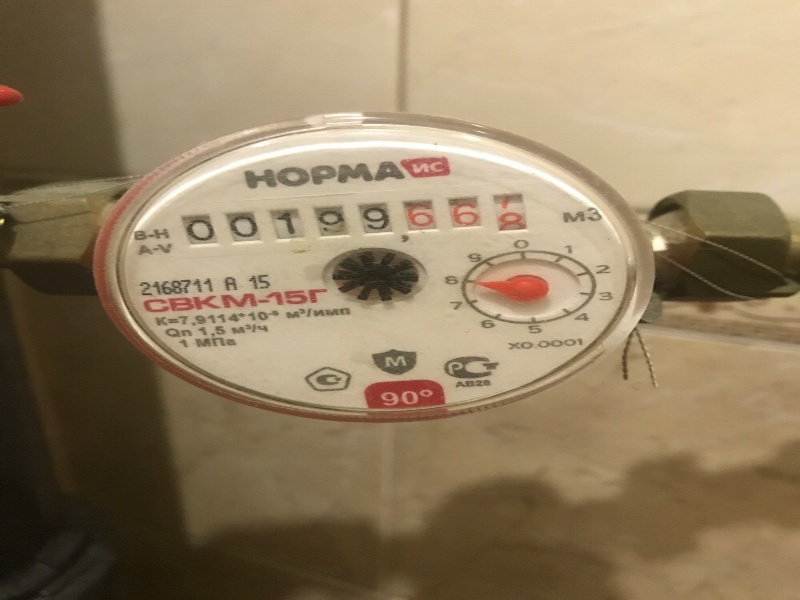meter: (177, 188, 534, 250)
